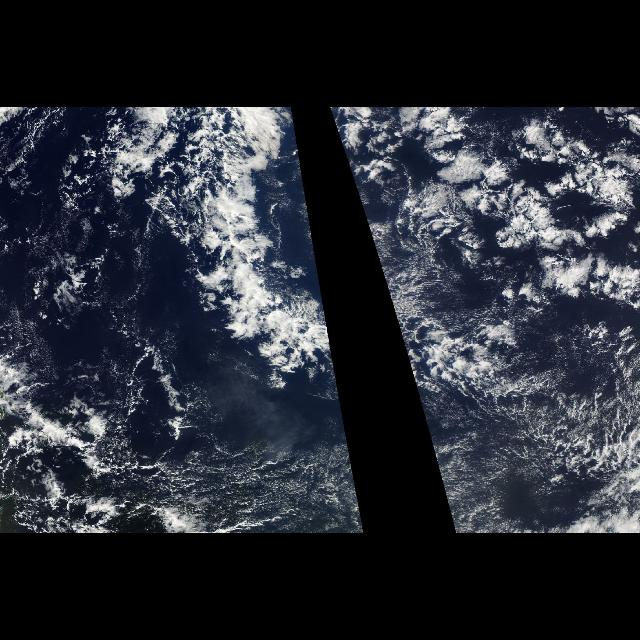Fish: (92, 108, 340, 392), (329, 108, 523, 392)
Gravel: (512, 314, 640, 522), (0, 421, 126, 533)
Sugar: (139, 416, 365, 534), (423, 416, 555, 534)
